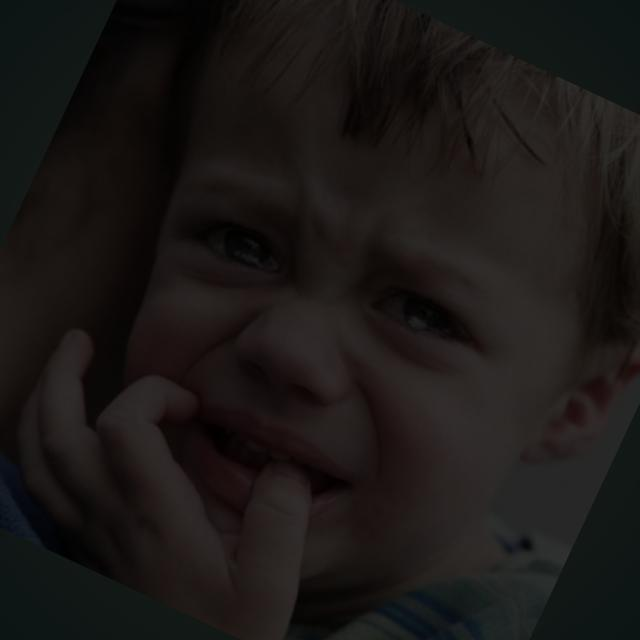Sad: (60, 147, 570, 588)
